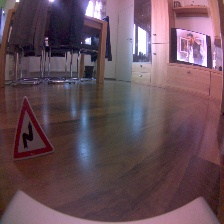vorsicht: (11, 96, 57, 162)
